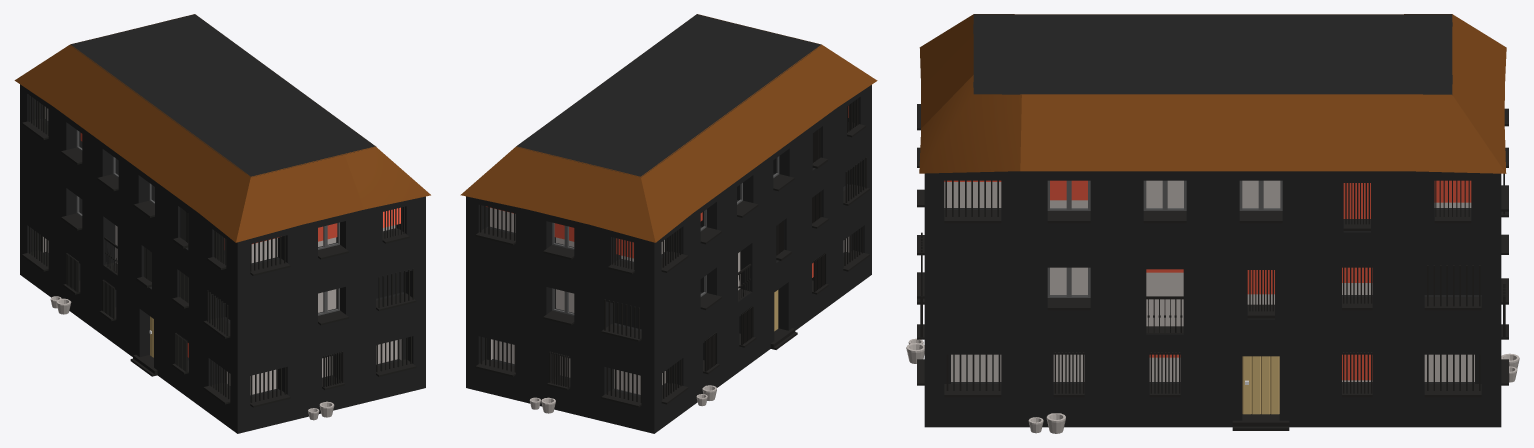
The model's file is CasaProcedural_2.fbx.
3 views of the same model, side by side, from view 1: azimuth 30°, elevation 25°; view 2: azimuth 150°, elevation 25°; view 3: azimuth 270°, elevation 25° (orthographic). The views are drawn at different scales.
Visible parts, largest first — view 1: Procedural_Building; view 2: Procedural_Building; view 3: Procedural_Building.
Part boxes in pixels (x1,y1,x2,y2): Procedural_Building: [14, 14, 430, 433]; Procedural_Building: [460, 14, 877, 433]; Procedural_Building: [906, 14, 1519, 433].
Bounding box in the file's own units: 338 × 359 × 638.
